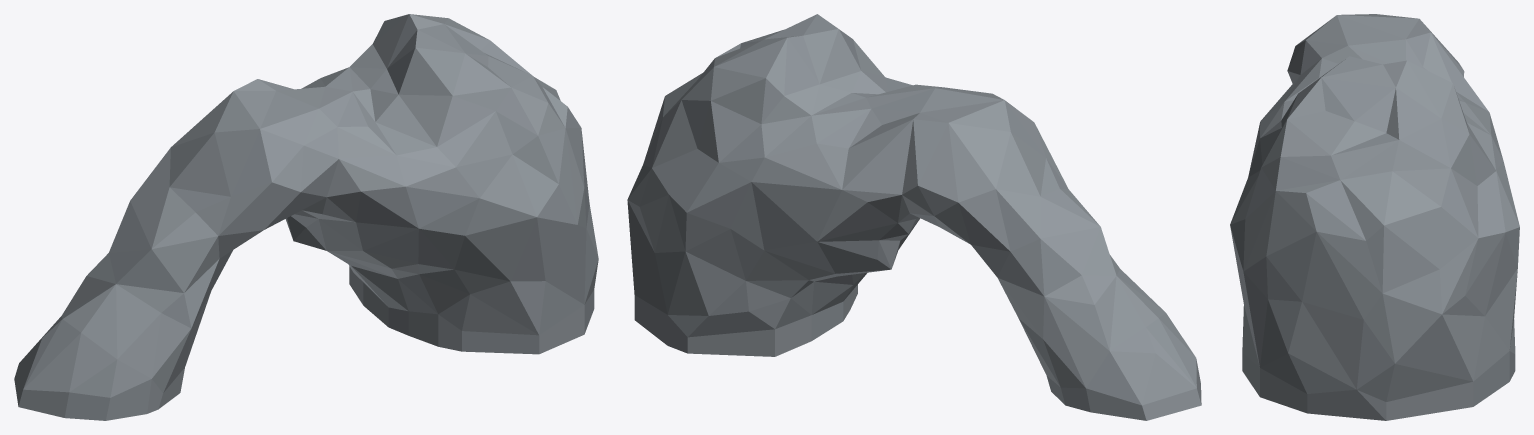
The model's file is Rock_Arch_04.fbx.
3 views of the same model, side by side, from view 1: azimuth 30°, elevation 25°; view 2: azimuth 150°, elevation 25°; view 3: azimuth 270°, elevation 25° (orthographic).
Visible parts, largest first — view 1: Rock_Arch_04; view 2: Rock_Arch_04; view 3: Rock_Arch_04.
Boxes of the visible parts, <box> form: Rock_Arch_04: <box>14,14,598,420</box>; Rock_Arch_04: <box>627,14,1201,420</box>; Rock_Arch_04: <box>1230,14,1519,420</box>.
Size of the model in its own units: 2006 by 994 by 907.
